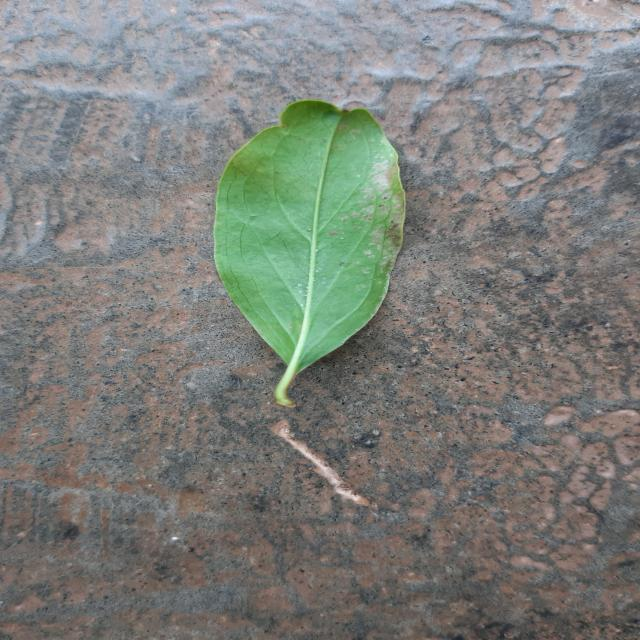pomgranate: (213, 100, 404, 406)
